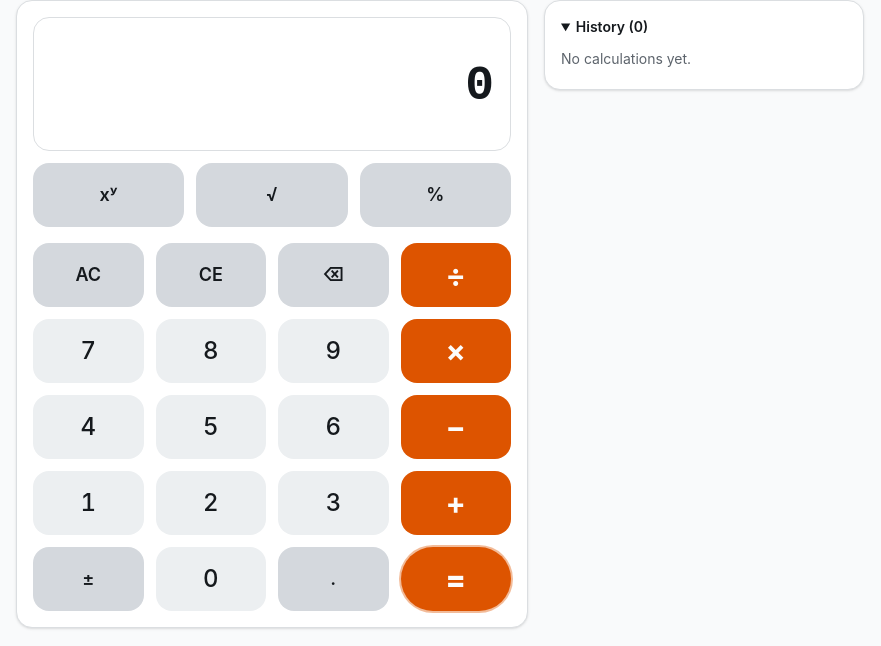
Calculator › computes 12 + 7 = 19 through the API and announces the answer
Click the button "1".
click(88, 503)  # box left=33, top=471, right=144, bottom=535
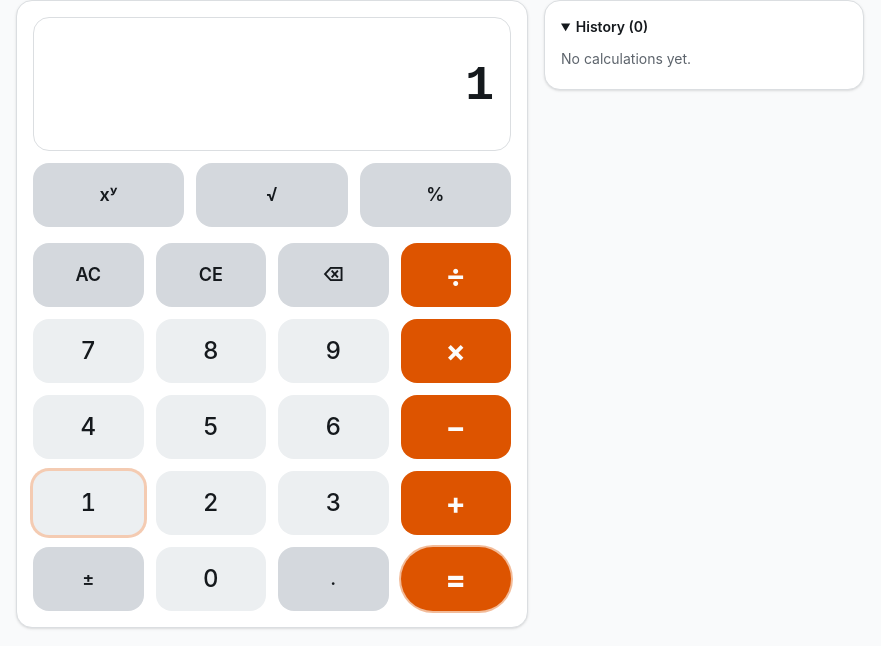
Click the button "2".
click(211, 503)  # box left=156, top=471, right=266, bottom=535
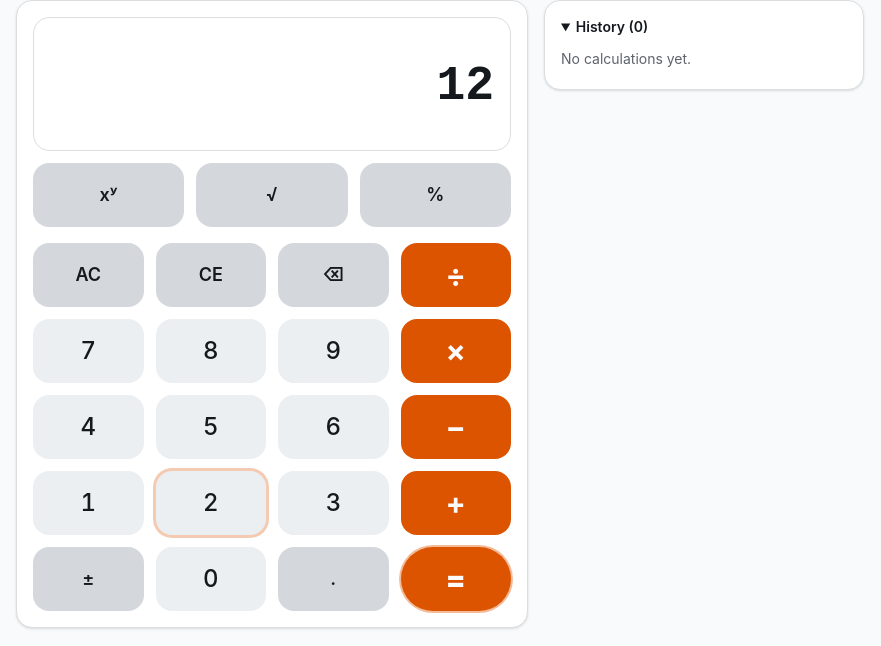
Expected: the text "12" is shown, left=436, top=62, right=494, bottom=110
Click the button named "add".
click(456, 503)  # box left=400, top=471, right=511, bottom=535
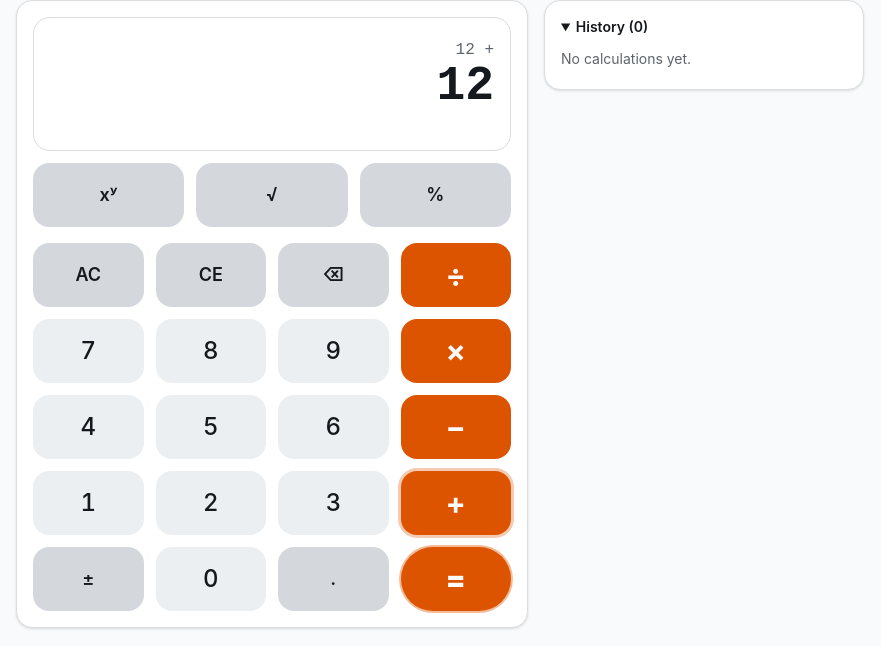
Expected: the text "12 +" is shown, left=456, top=41, right=494, bottom=59
Click the button "7".
click(88, 351)  # box left=33, top=319, right=144, bottom=383
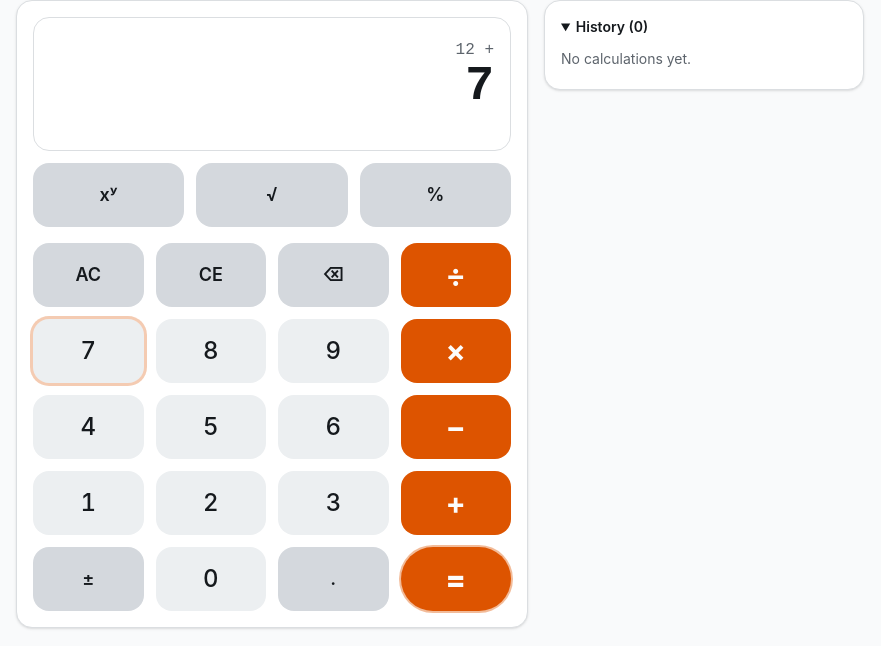
Click the button named "equals".
click(456, 579)  # box left=400, top=547, right=511, bottom=611
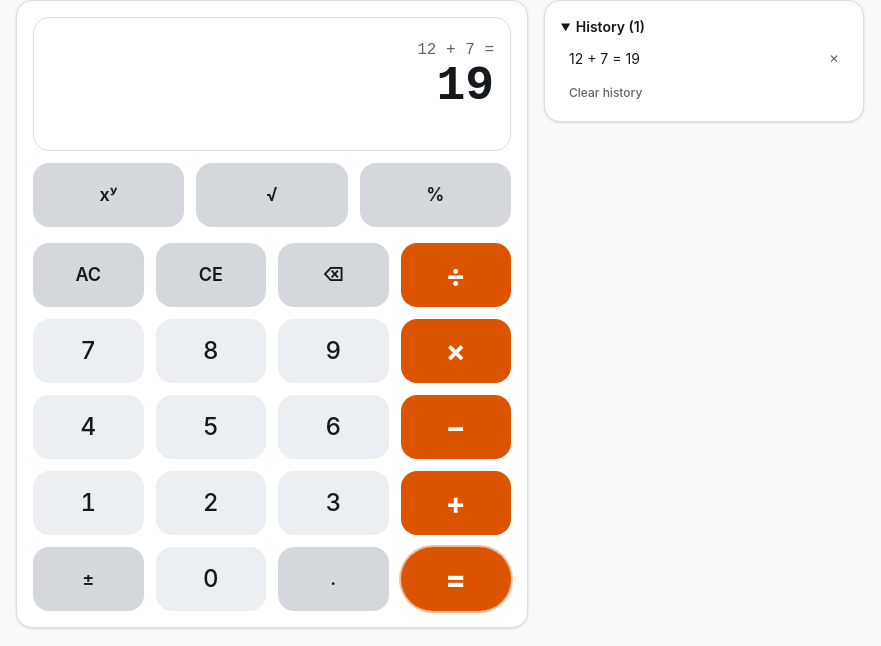
Expected: the message is empty, left=50, top=110, right=494, bottom=130
Expected: the text "19" is shown, left=436, top=62, right=494, bottom=110
Expected: the text "12 + 7 =" is shown, left=417, top=41, right=494, bottom=59
